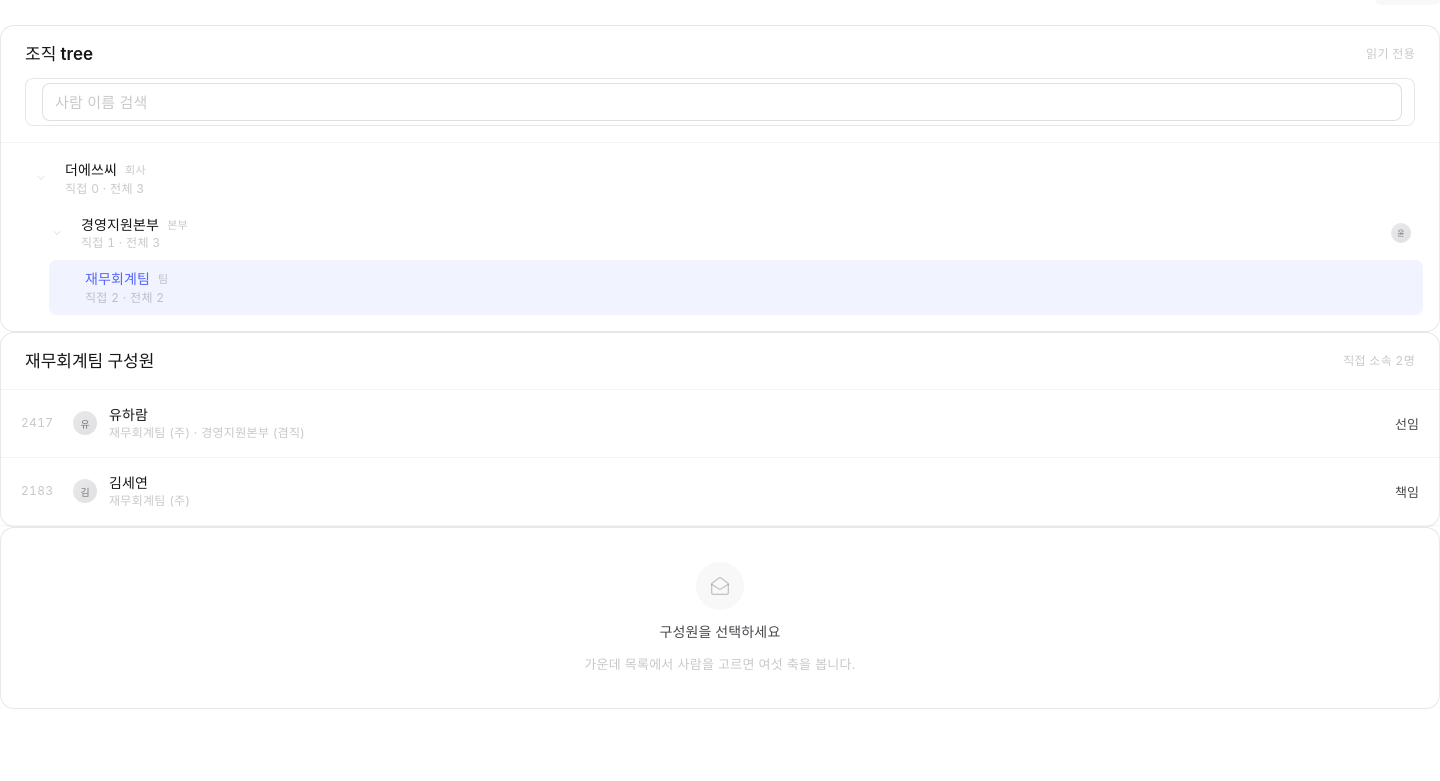
Test: OrgPage — 조직 화면 v3 › 직원이 자기 자신을 고르면 그 응답에 자기 권한이 담겨 온다
What coordinates should you click on to do the following:
click the button "2417 유 유하람 재무회계팀 (주) · 경영지원본부 (겸직) 선임"
I would click on:
 (37, 423)
Its box is [1,390,1439,458].
(page scrolled)
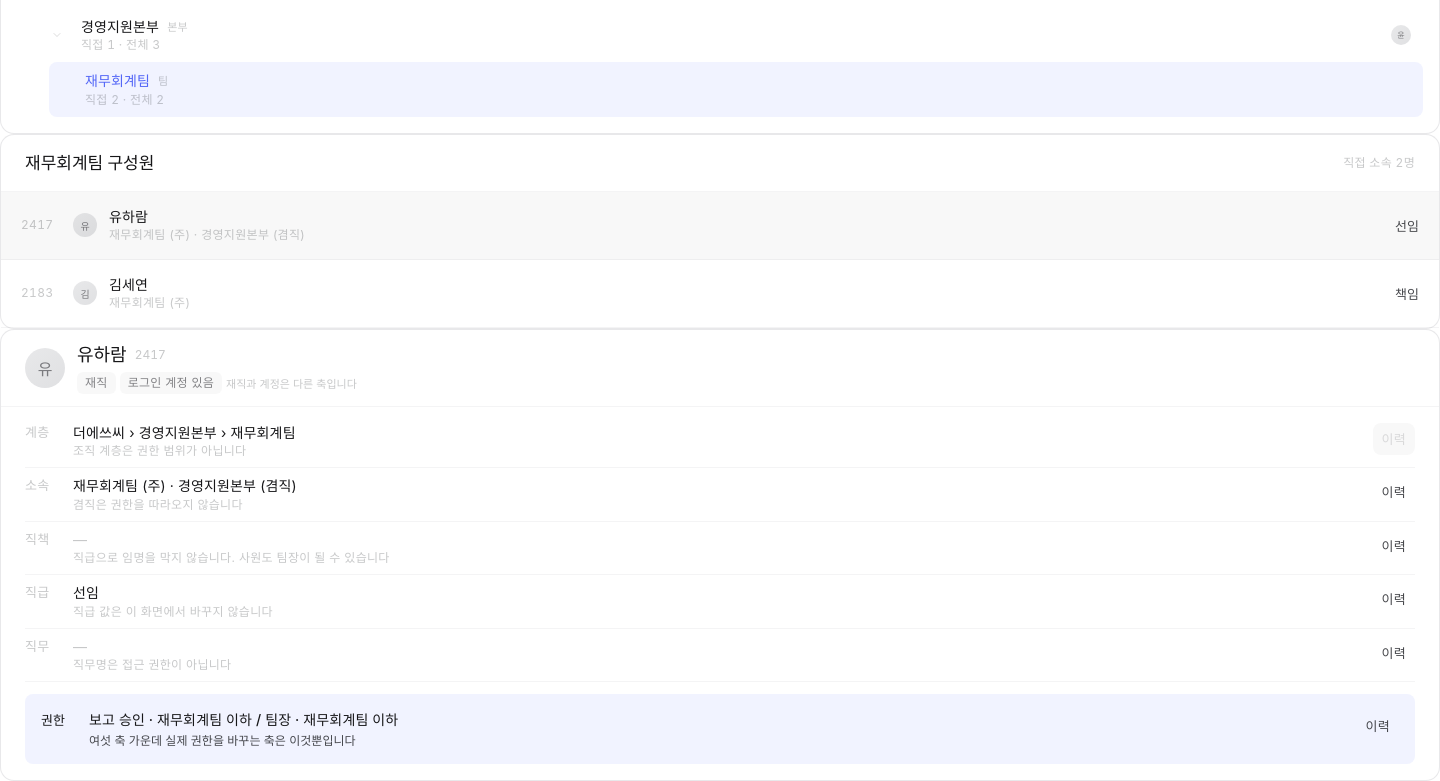
Check: the text "보고 승인 · 재무회계팀 이하 / 팀장 · 재무회계팀 이하" is shown, box [89,711,398,728]
